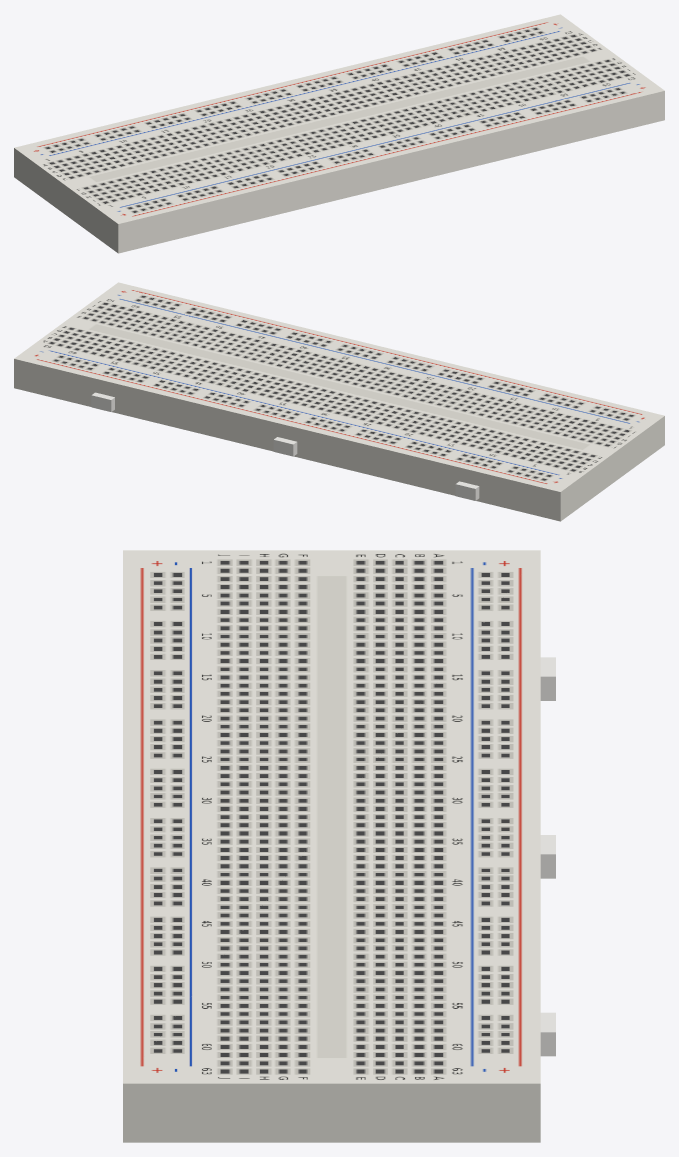
File: Protoboard_830.glb
3 renders of one model, top to bottom at view 1: azimuth 30°, elevation 25°; view 2: azimuth 150°, elevation 25°; view 3: azimuth 270°, elevation 25°, orthographic. The views are drawn at different scales.
Parts seen in each view (by area): view 1: Cuerpo_Protoboard; view 2: Cuerpo_Protoboard, Pestana_1, Pestana_2, Pestana_3; view 3: Cuerpo_Protoboard.
Boxes of the visible parts, x1,y1,x2,y2 form: Cuerpo_Protoboard: (14,14,664,253); Cuerpo_Protoboard: (14,282,664,521); Pestana_1: (455,481,479,500); Pestana_2: (273,437,297,456); Pestana_3: (91,392,114,411); Cuerpo_Protoboard: (123,550,540,1142).
Size of the model in its own units: 0.1651 by 0.0085 by 0.0566.
Materials: 2 (1 with a texture image).
